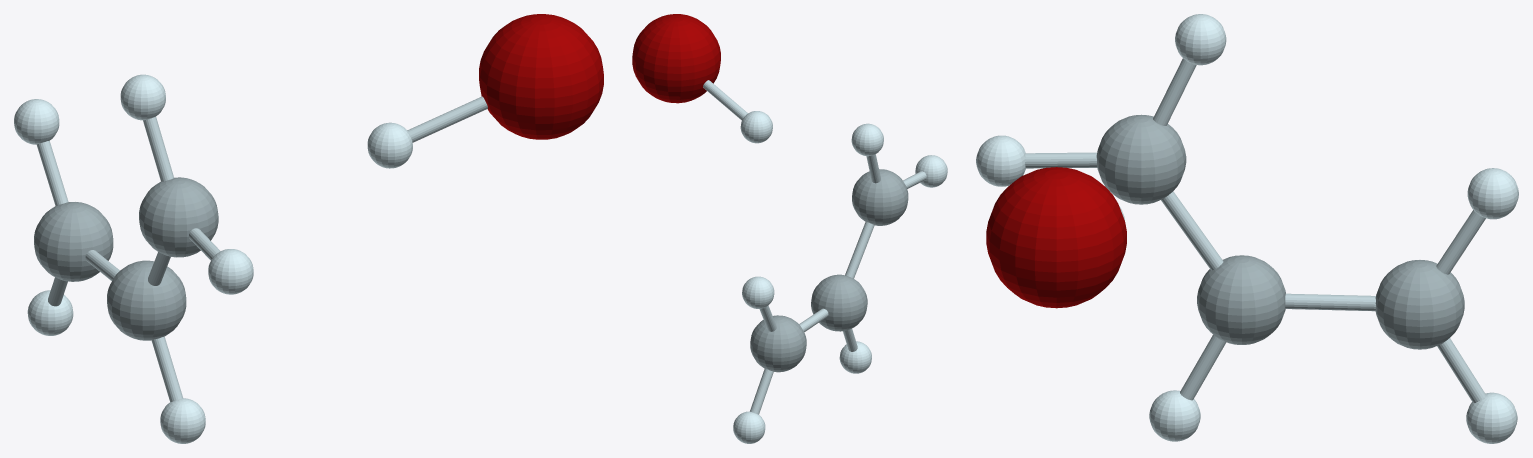
File: irc_step_040.glb
3 renders of one model, left to right at view 1: azimuth 30°, elevation 25°; view 2: azimuth 150°, elevation 25°; view 3: azimuth 270°, elevation 25°, orthographic. The views are drawn at different scales.
Visible parts, largest first — view 1: Renderer Node; view 2: Renderer Node; view 3: Renderer Node.
Part boxes in pixels (x1,y1,x2,y2): Renderer Node: [14, 14, 603, 443]; Renderer Node: [632, 14, 947, 443]; Renderer Node: [976, 14, 1518, 443].
Bounding box in the file's own units: 4.17 × 3.72 × 4.22.
